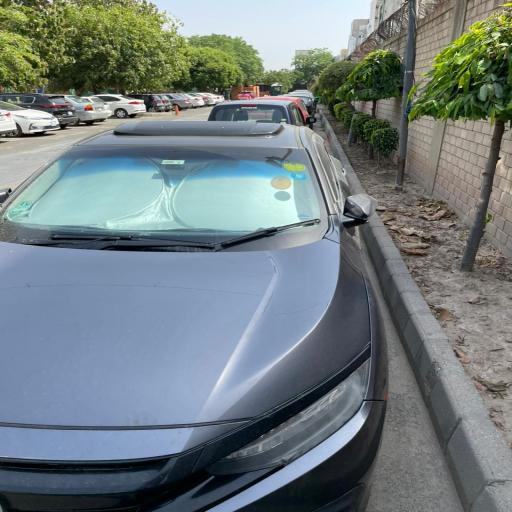bnu_sticker: (282, 160, 308, 174)
